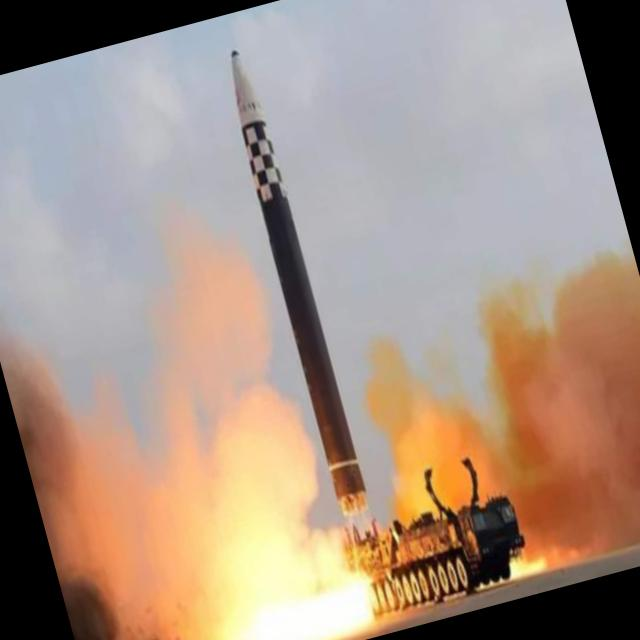rocket: (209, 42, 391, 571)
